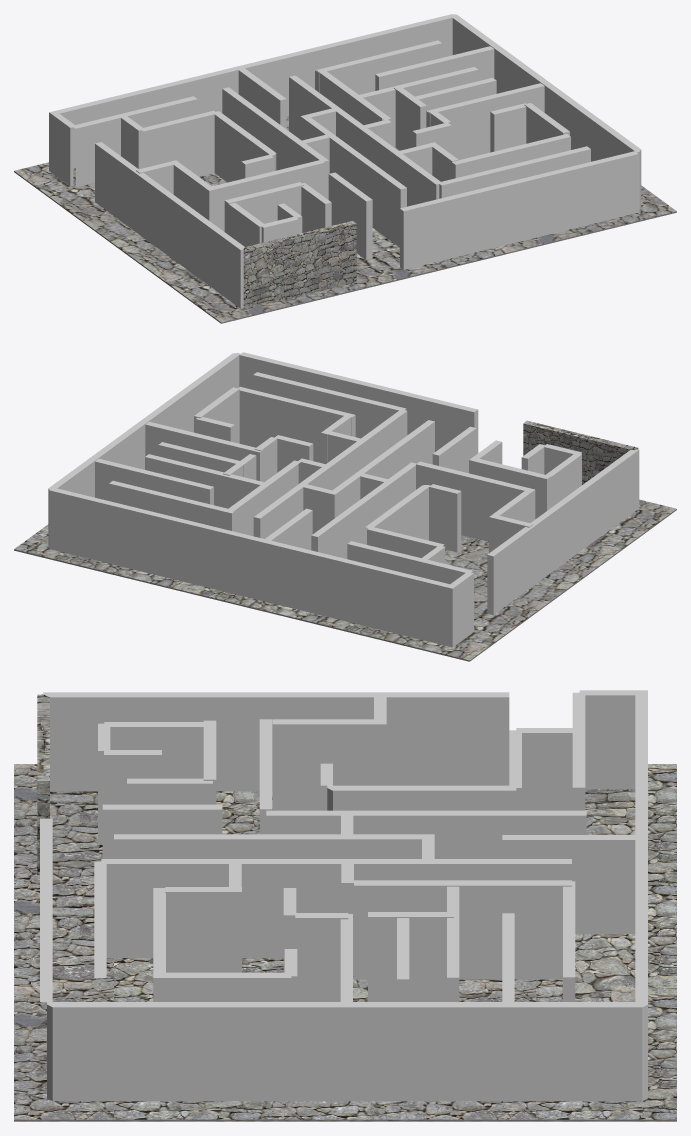
Rendered from labirint.gltf.
The picture shows the model from 3 angles, top to bottom: view 1: azimuth 30°, elevation 25°; view 2: azimuth 150°, elevation 25°; view 3: azimuth 270°, elevation 25°; orthographic projection. The views are drawn at different scales.
Visible parts, largest first — view 1: wall.037, Cube, wall.002, wall.032, wall.001, wall.034, wall.010, wall.008, wall.028, wall.043, wall.030, wall.006 (+26 smaller); view 2: wall.032, Cube, wall.002, wall.034, wall.037, wall.016, wall.010, wall.005, wall.006, wall.019, wall.008, wall.013 (+28 smaller); view 3: wall.034, Cube, wall.002, wall.010, wall.012, wall.006, wall.004, wall.033, wall.008, wall.015, wall.036, wall.031 (+25 smaller).
Boxes of the visible parts, box(x1,y1,x2,y2) form: wall.037: box(400, 151, 638, 269); Cube: box(14, 116, 676, 323); wall.002: box(95, 142, 244, 308); wall.032: box(52, 15, 452, 168); wall.001: box(242, 221, 356, 309); wall.034: box(449, 14, 641, 210); wall.010: box(289, 75, 441, 206); wall.008: box(300, 114, 406, 247); wall.028: box(142, 110, 215, 176); wall.043: box(426, 83, 544, 159); wall.030: box(72, 96, 197, 187); wall.006: box(222, 87, 328, 199); wall.032: box(53, 488, 453, 646); Cube: box(14, 499, 676, 661); wall.002: box(487, 449, 639, 614); wall.034: box(48, 353, 240, 549); wall.037: box(239, 352, 478, 453); wall.016: box(238, 386, 355, 462); wall.010: box(253, 410, 407, 538); wall.005: box(416, 461, 535, 541); wall.006: box(311, 462, 416, 558); wall.019: box(253, 372, 406, 438); wall.008: box(331, 420, 434, 517); wall.013: box(109, 480, 235, 531); wall.034: box(47, 1002, 647, 1101); Cube: box(14, 764, 676, 1121); wall.002: box(43, 692, 509, 791); wall.010: box(101, 859, 571, 957); wall.012: box(354, 880, 571, 979); wall.006: box(266, 810, 586, 858); wall.004: box(272, 719, 386, 810); wall.033: box(502, 835, 642, 933); wall.008: box(114, 834, 434, 858); wall.015: box(165, 887, 241, 972); wall.036: box(368, 912, 453, 1001); wall.031: box(579, 690, 647, 789).
Bounding box in the file's own units: 133 × 17.06 × 105.
Materials: 1 (1 with a texture image).
